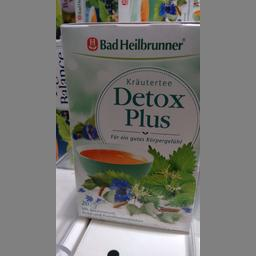tea: (58, 20, 198, 234)
